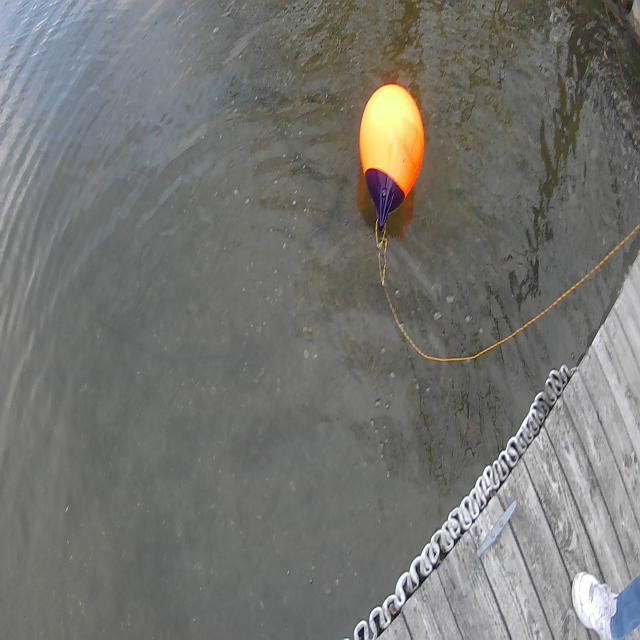Buoy: (356, 73, 427, 233)
